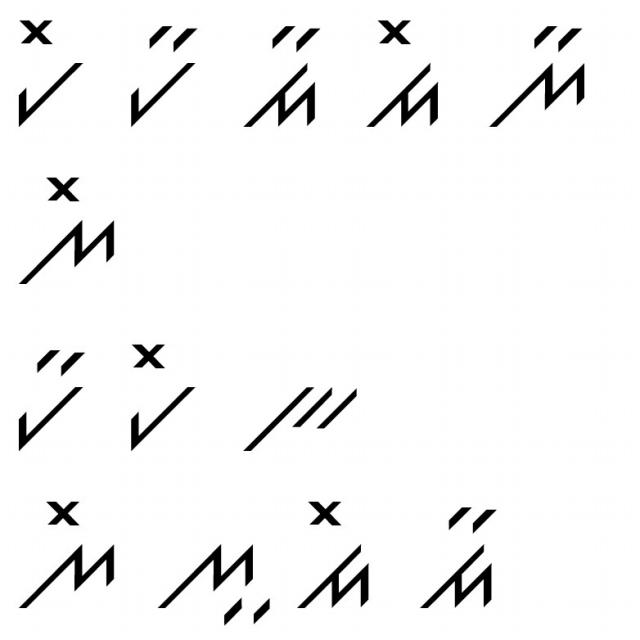dan: (417, 498, 508, 618), (234, 21, 328, 132)
do: (356, 17, 446, 132), (299, 494, 381, 620)
nah: (150, 531, 274, 630)
nan: (477, 16, 592, 135)
no: (8, 172, 124, 298), (15, 494, 125, 614)
pan: (121, 14, 209, 132), (2, 344, 91, 460)
po: (113, 332, 200, 456), (10, 17, 90, 128)
